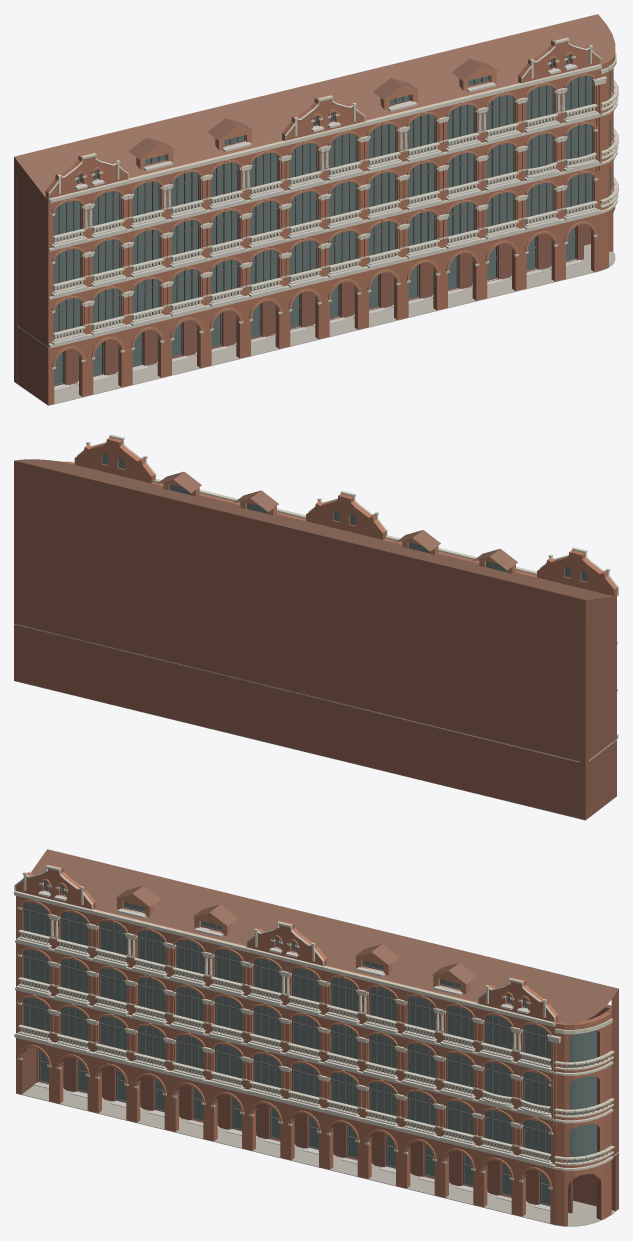
The model's file is huangpu-carlowitz-jiujiang-front-lod.glb.
3 views of the same model, one above another, from view 1: azimuth 30°, elevation 25°; view 2: azimuth 150°, elevation 25°; view 3: azimuth 330°, elevation 25° (orthographic). The views are drawn at different scales.
Parts seen in each view (by area): view 1: 礼和洋行九江路街面; view 2: 礼和洋行九江路街面; view 3: 礼和洋行九江路街面.
Boxes of the visible parts, box(x1,y1,x2,y2) form: 礼和洋行九江路街面: box(14, 14, 618, 405); 礼和洋行九江路街面: box(14, 434, 618, 820); 礼和洋行九江路街面: box(14, 849, 618, 1226).
Size of the model in its own units: 47.5 by 18.72 by 5.12.
